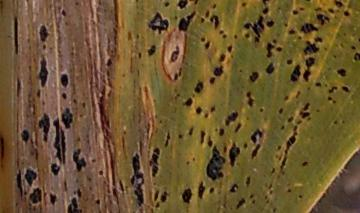tarspot: (279, 119, 304, 171), (129, 152, 146, 206), (205, 145, 227, 183), (52, 116, 68, 165), (243, 15, 266, 44), (147, 11, 170, 35), (35, 112, 52, 143), (36, 55, 50, 88), (147, 147, 161, 178), (177, 11, 196, 32), (71, 148, 87, 172), (228, 141, 241, 169), (14, 168, 24, 202), (12, 14, 20, 55), (303, 57, 315, 82), (61, 106, 74, 129), (66, 196, 83, 213), (37, 24, 52, 43), (29, 186, 43, 206), (303, 40, 320, 56), (24, 166, 36, 188), (289, 64, 302, 83), (299, 22, 318, 35), (224, 111, 239, 127), (315, 13, 331, 28), (181, 187, 194, 205), (250, 128, 264, 144), (176, 1, 200, 10), (14, 74, 22, 100), (264, 41, 275, 59), (49, 161, 61, 177), (197, 181, 207, 200), (245, 90, 256, 107), (250, 144, 262, 159), (209, 15, 220, 31), (212, 64, 225, 77), (1, 133, 6, 166), (170, 45, 179, 63), (20, 128, 30, 144), (193, 80, 204, 94), (60, 73, 70, 88), (265, 61, 275, 76), (247, 71, 259, 83), (117, 178, 126, 194), (235, 197, 246, 210), (163, 131, 171, 148), (61, 178, 70, 193), (159, 191, 169, 204), (297, 110, 311, 119), (183, 96, 194, 107), (335, 67, 346, 78), (147, 44, 156, 57), (49, 192, 57, 206), (233, 122, 242, 134), (206, 135, 214, 148), (152, 189, 160, 202), (229, 183, 238, 194), (327, 85, 338, 94), (199, 130, 206, 144), (313, 35, 325, 43), (76, 187, 83, 200), (194, 106, 203, 116), (225, 43, 234, 53), (342, 9, 351, 19), (60, 8, 69, 18), (244, 175, 252, 186), (203, 41, 212, 50), (261, 6, 270, 15), (303, 102, 312, 111), (209, 104, 217, 114), (71, 96, 79, 106), (61, 90, 68, 101), (187, 126, 194, 137), (265, 20, 276, 27), (34, 88, 41, 99), (208, 77, 216, 86), (326, 7, 335, 15), (105, 57, 113, 66), (301, 159, 309, 168), (218, 127, 225, 137), (203, 9, 210, 19), (162, 1, 170, 9), (286, 115, 294, 123), (94, 198, 102, 206), (136, 51, 144, 59), (219, 53, 226, 62), (285, 58, 294, 65), (333, 1, 342, 8), (277, 106, 284, 115), (287, 28, 296, 35), (261, 1, 271, 7), (173, 72, 179, 82), (208, 186, 215, 194), (97, 169, 105, 176), (275, 46, 283, 53), (341, 85, 348, 93), (353, 52, 360, 60), (314, 107, 322, 114), (154, 202, 161, 210), (242, 141, 248, 150), (222, 144, 228, 153), (199, 16, 205, 25), (314, 82, 323, 88), (313, 7, 322, 13), (294, 90, 300, 99), (89, 158, 98, 164), (271, 38, 278, 45), (240, 1, 247, 8), (250, 198, 257, 205), (177, 132, 183, 140), (203, 111, 209, 119), (41, 43, 47, 51), (211, 2, 217, 10), (292, 9, 298, 17), (349, 45, 357, 51), (286, 187, 292, 195), (270, 167, 276, 175), (247, 193, 255, 199), (191, 155, 197, 163), (331, 54, 339, 60), (1, 1, 4, 16), (218, 29, 225, 35), (244, 32, 250, 39), (326, 95, 332, 102), (259, 107, 265, 114), (283, 95, 290, 101), (331, 119, 338, 125), (275, 144, 282, 150), (185, 159, 191, 166), (267, 182, 273, 189), (271, 206, 277, 213), (298, 6, 306, 11), (268, 188, 273, 196), (199, 36, 205, 42), (221, 34, 227, 40), (331, 98, 337, 104), (282, 22, 288, 28), (296, 35, 302, 41), (134, 33, 140, 39), (233, 34, 238, 40), (297, 194, 303, 199), (73, 1, 79, 6), (23, 189, 27, 196), (82, 101, 86, 108), (279, 125, 284, 130), (238, 68, 243, 73), (357, 36, 360, 43), (25, 1, 29, 3), (304, 1, 311, 2)
